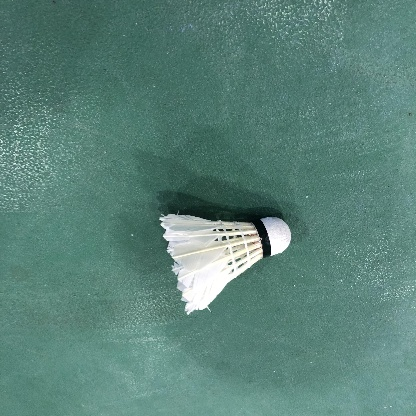ball_single: (159, 214, 291, 316)
